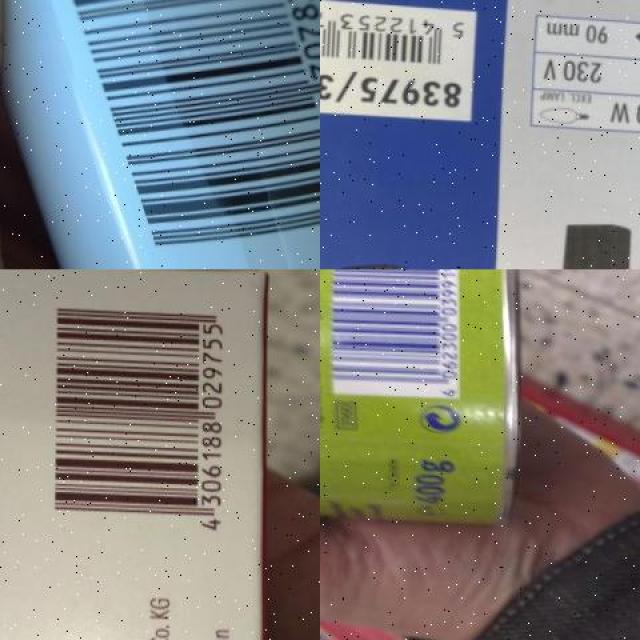Barcode: (59, 0, 320, 267), (42, 290, 242, 541), (320, 0, 476, 119), (330, 270, 462, 398)
